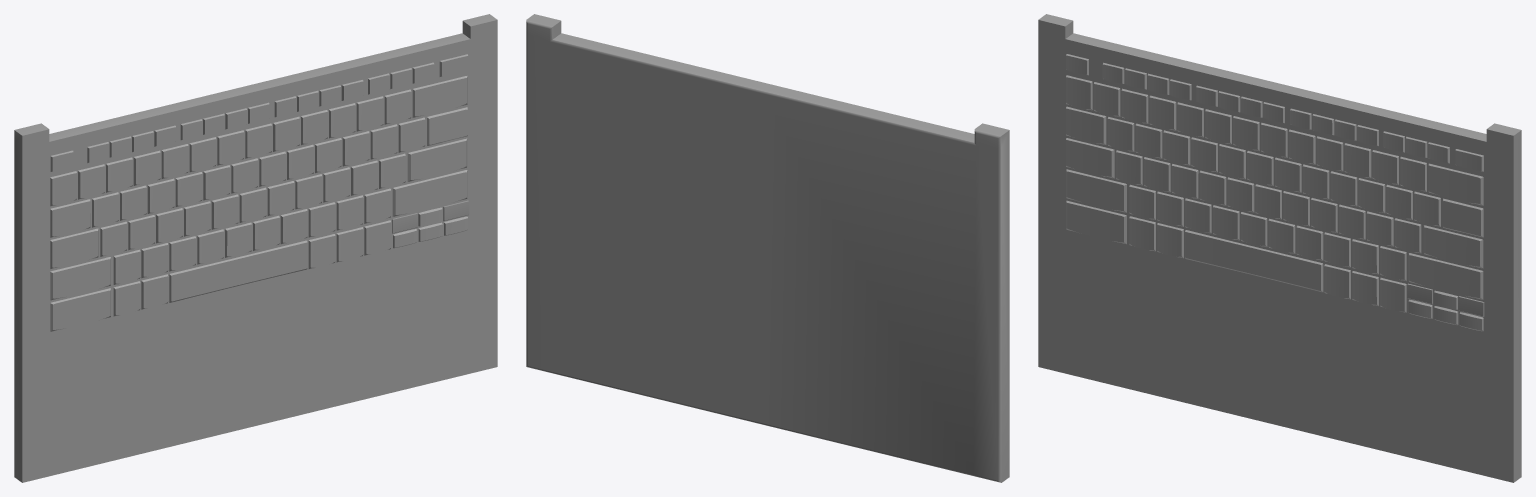
Rendered from MainMeshLaptop_6_1_GeomSubset_0.obj.
3 renders of one model, left to right at view 1: azimuth 30°, elevation 25°; view 2: azimuth 150°, elevation 25°; view 3: azimuth 330°, elevation 25°, orthographic.
Parts seen in each view (by area): view 1: MainMeshLaptop_6_1_GeomSubset_0; view 2: MainMeshLaptop_6_1_GeomSubset_0; view 3: MainMeshLaptop_6_1_GeomSubset_0.
Boxes of the visible parts, box(x1,y1,x2,y2) form: MainMeshLaptop_6_1_GeomSubset_0: box(14, 14, 497, 482); MainMeshLaptop_6_1_GeomSubset_0: box(526, 14, 1009, 482); MainMeshLaptop_6_1_GeomSubset_0: box(1038, 14, 1521, 482).
Bounding box in the file's own units: 0.393 × 0.2743 × 0.0148.
Materials: 1 (1 with a texture image).
